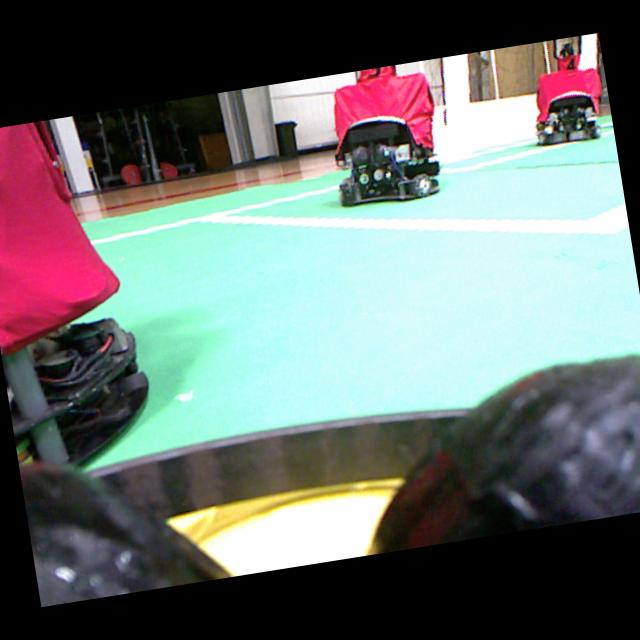goal: (442, 54, 472, 158)
